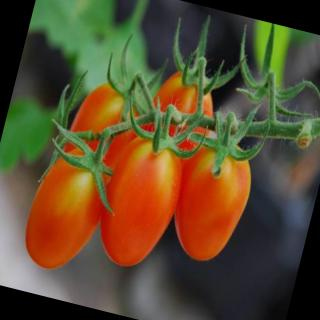Tomat: (17, 71, 146, 282), (51, 24, 174, 219), (90, 97, 201, 277), (161, 102, 269, 270), (142, 6, 256, 164), (62, 75, 148, 177), (142, 65, 224, 159)
